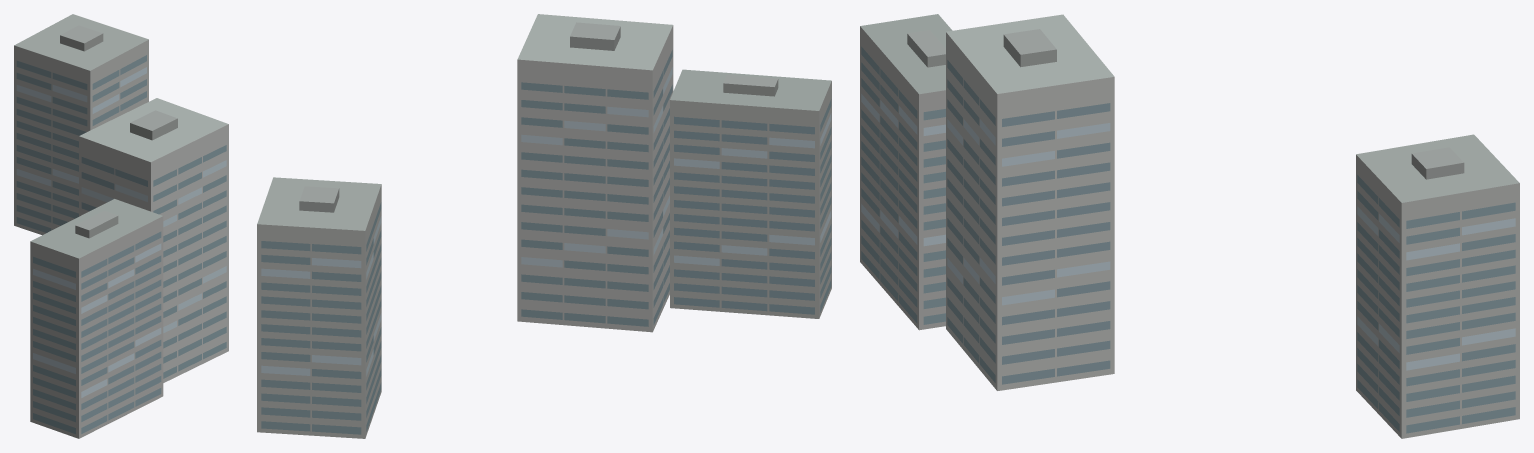
The model's file is apt-a13501008.glb.
3 renders of one model, left to right at view 1: azimuth 30°, elevation 25°; view 2: azimuth 150°, elevation 25°; view 3: azimuth 270°, elevation 25°, orthographic. The views are drawn at different scales.
Visible parts, largest first — view 1: apt-a13501008; view 2: apt-a13501008; view 3: apt-a13501008.
Boxes of the visible parts, x1,y1,x2,y2 form: apt-a13501008: (14, 14, 228, 438); apt-a13501008: (257, 14, 831, 438); apt-a13501008: (860, 14, 1519, 438).
Size of the model in its own units: 78.59 by 60 by 116.
